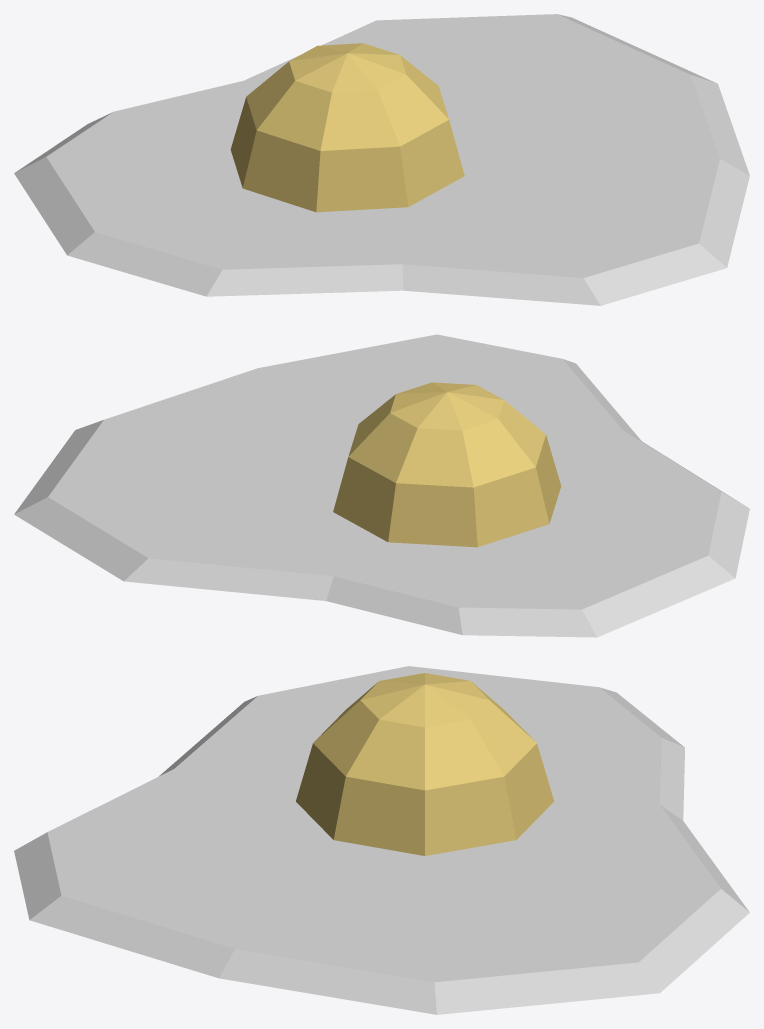
File: tower_egg.glb
3 views of the same model, one above another, from view 1: azimuth 30°, elevation 25°; view 2: azimuth 150°, elevation 25°; view 3: azimuth 270°, elevation 25° (orthographic). The views are drawn at different scales.
Visible parts, largest first — view 1: Cube; view 2: Cube; view 3: Cube.
Part boxes in pixels (x1,y1,x2,y2): Cube: [14, 14, 749, 305]; Cube: [14, 334, 749, 637]; Cube: [14, 666, 749, 1014].
Size of the model in its own units: 1.94 by 0.3535 by 1.75.
